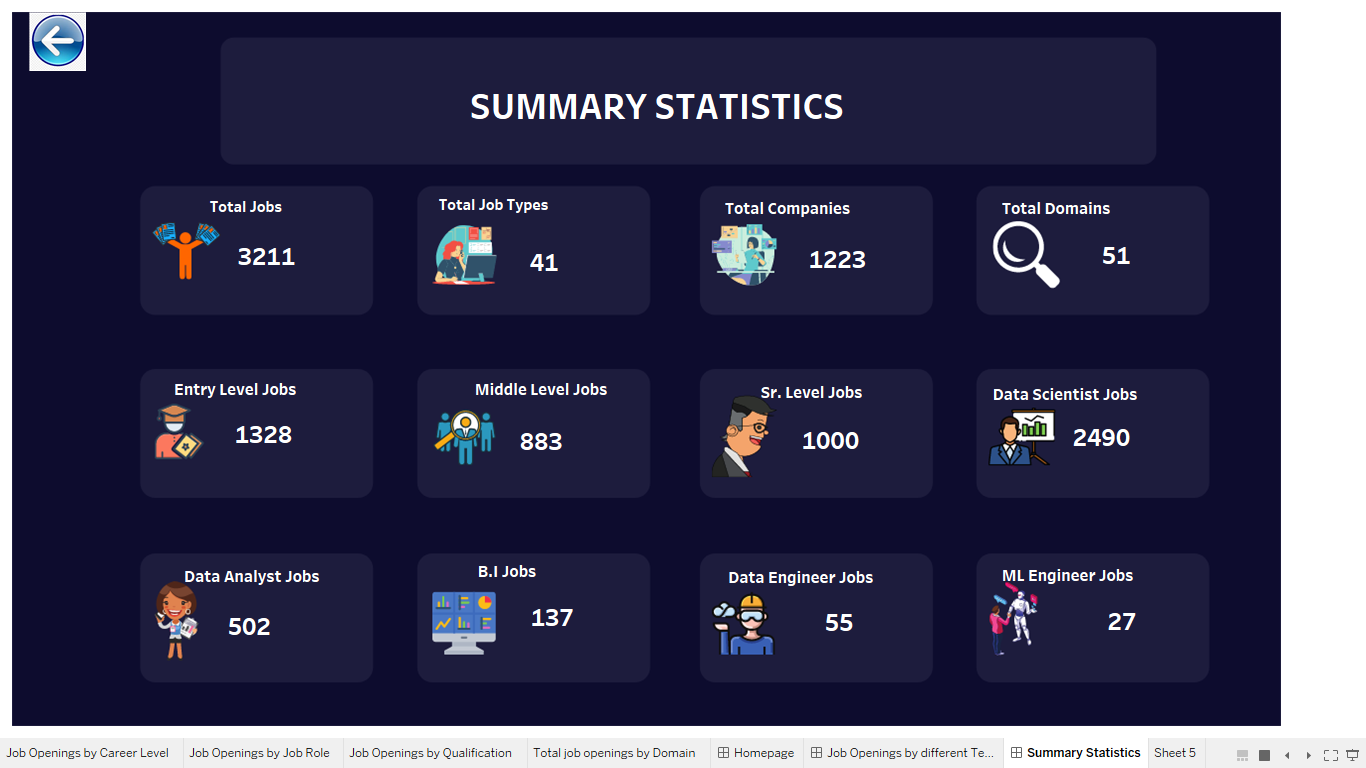

Layout of this report page (visuals, bound fields, positions):
{"tool":"tableau","page":{"name":"Summary Statistics","canvas":[1000,1000],"units":"permille","ordinal":2},"visuals":[{"type":"worksheet","box":[0,0,1000,1000]},{"type":"worksheet","param":"C:/Users/Dinesh Kumar Verma/Downloads/Tableau Projects-20220403T035744Z-001/Tabl","box":[6.9,13.5,986.1,973]},{"type":"worksheet","box":[219.4,94.6,523,94.6]},{"type":"worksheet","box":[319.2,258.4,114.5,37.2]},{"type":"worksheet","box":[151.8,261.8,99.7,37.2]},{"type":"worksheet","box":[510.8,263.5,131,37.2]},{"type":"worksheet","box":[701.6,263.5,113.6,37.2]},{"type":"worksheet","box":[804.9,317.6,86.7,55.7]},{"type":"worksheet","box":[171.7,320.9,60.7,50.7]},{"type":"worksheet","box":[589.8,322.6,86.7,55.7]},{"type":"worksheet","box":[385.9,326,86.7,55.7]},{"type":"worksheet","box":[304.4,506.8,142.2,38.9]},{"type":"worksheet","box":[123.2,508.4,132.7,37.2]},{"type":"worksheet","box":[522.1,511.8,111,37.2]},{"type":"worksheet","box":[693.8,513.5,140.5,38.9]},{"type":"worksheet","box":[170,559.1,86.7,55.7]},{"type":"worksheet","box":[783.2,564.2,86.7,55.7]},{"type":"worksheet","box":[584.6,567.6,86.7,55.7]},{"type":"worksheet","box":[378.1,569.3,86.7,55.7]},{"type":"worksheet","box":[347.8,748.3,86.7,50.7]},{"type":"worksheet","box":[709.5,753.4,122.3,50.7]},{"type":"worksheet","box":[130.1,755.1,125.8,50.7]},{"type":"worksheet","box":[508.2,756.8,133.6,50.7]},{"type":"worksheet","box":[386.8,807.4,86.7,55.7]},{"type":"worksheet","box":[747.6,812.5,86.7,55.7]},{"type":"worksheet","box":[601.9,814.2,86.7,55.7]},{"type":"worksheet","box":[164.8,819.3,86.7,55.7]}]}

Visuals, with their boxes on the dashboard's canvas, which has no fixed pixel size, in thousandths of its width and height (x1, y1, x2, y2). These are canvas units, not pixel positions in the 1366x768 screenshot, which may show the page scaled, cropped or inside an application window:
worksheet: (0, 0, 1000, 1000)
worksheet: (7, 14, 993, 986)
worksheet: (219, 95, 742, 189)
worksheet: (319, 258, 434, 296)
worksheet: (152, 262, 252, 299)
worksheet: (511, 264, 642, 301)
worksheet: (702, 264, 815, 301)
worksheet: (805, 318, 892, 373)
worksheet: (172, 321, 232, 372)
worksheet: (590, 323, 676, 378)
worksheet: (386, 326, 473, 382)
worksheet: (304, 507, 447, 546)
worksheet: (123, 508, 256, 546)
worksheet: (522, 512, 633, 549)
worksheet: (694, 514, 834, 552)
worksheet: (170, 559, 257, 615)
worksheet: (783, 564, 870, 620)
worksheet: (585, 568, 671, 623)
worksheet: (378, 569, 465, 625)
worksheet: (348, 748, 434, 799)
worksheet: (710, 753, 832, 804)
worksheet: (130, 755, 256, 806)
worksheet: (508, 757, 642, 808)
worksheet: (387, 807, 474, 863)
worksheet: (748, 812, 834, 868)
worksheet: (602, 814, 689, 870)
worksheet: (165, 819, 252, 875)
